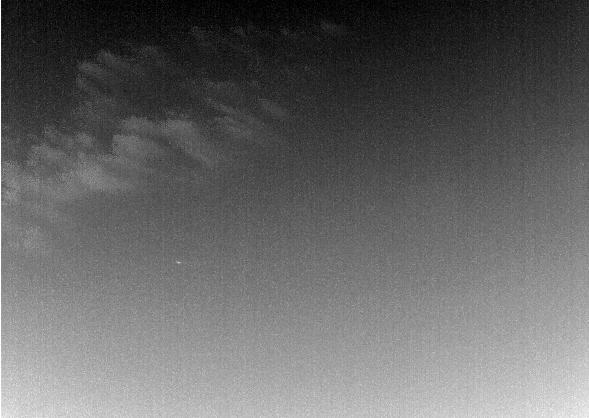dim target: (175, 260, 183, 265)
